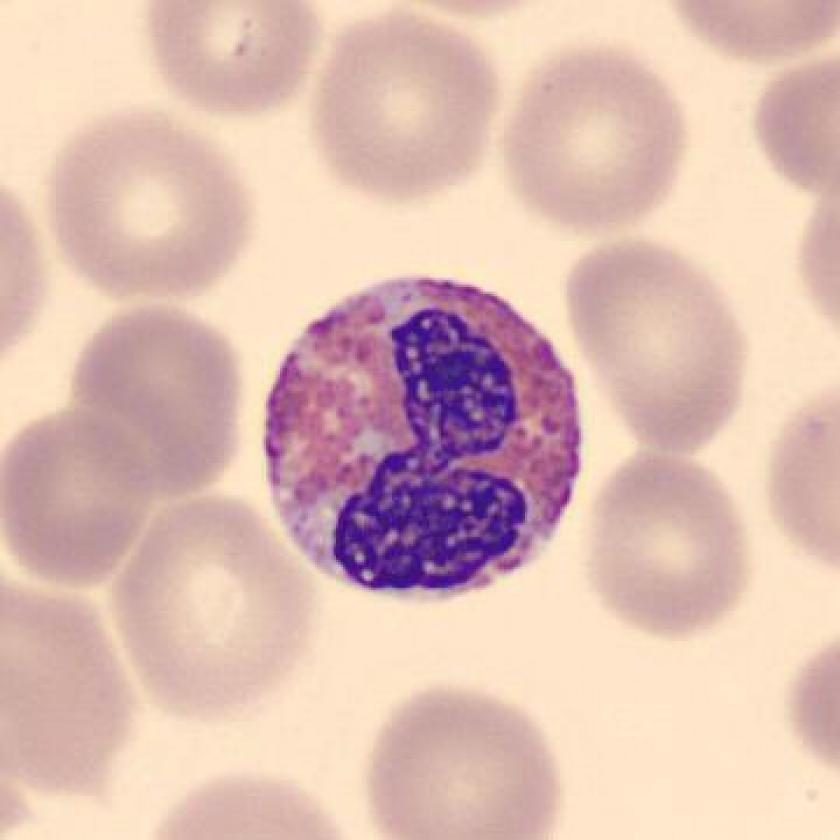eosinophil: (246, 265, 596, 621)
